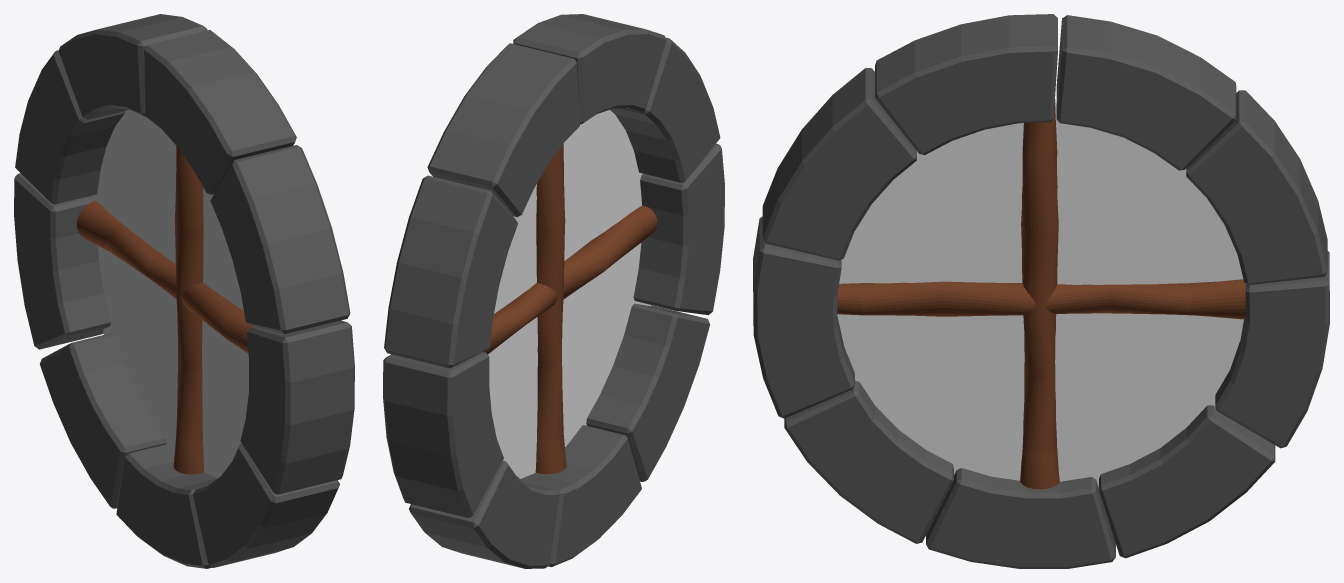
File: Ventana.001.fbx
The picture shows the model from 3 angles, left to right: view 1: azimuth 30°, elevation 25°; view 2: azimuth 150°, elevation 25°; view 3: azimuth 270°, elevation 25°; orthographic projection. The views are drawn at different scales.
Visible parts, largest first — view 1: Ventana.001; view 2: Ventana.001; view 3: Ventana.001.
Part boxes in pixels (bbox=[...]): Ventana.001: bbox=[14, 14, 354, 568]; Ventana.001: bbox=[383, 14, 724, 568]; Ventana.001: bbox=[753, 14, 1329, 568].
Bounding box in the file's own units: 21.16 × 145 × 145.
